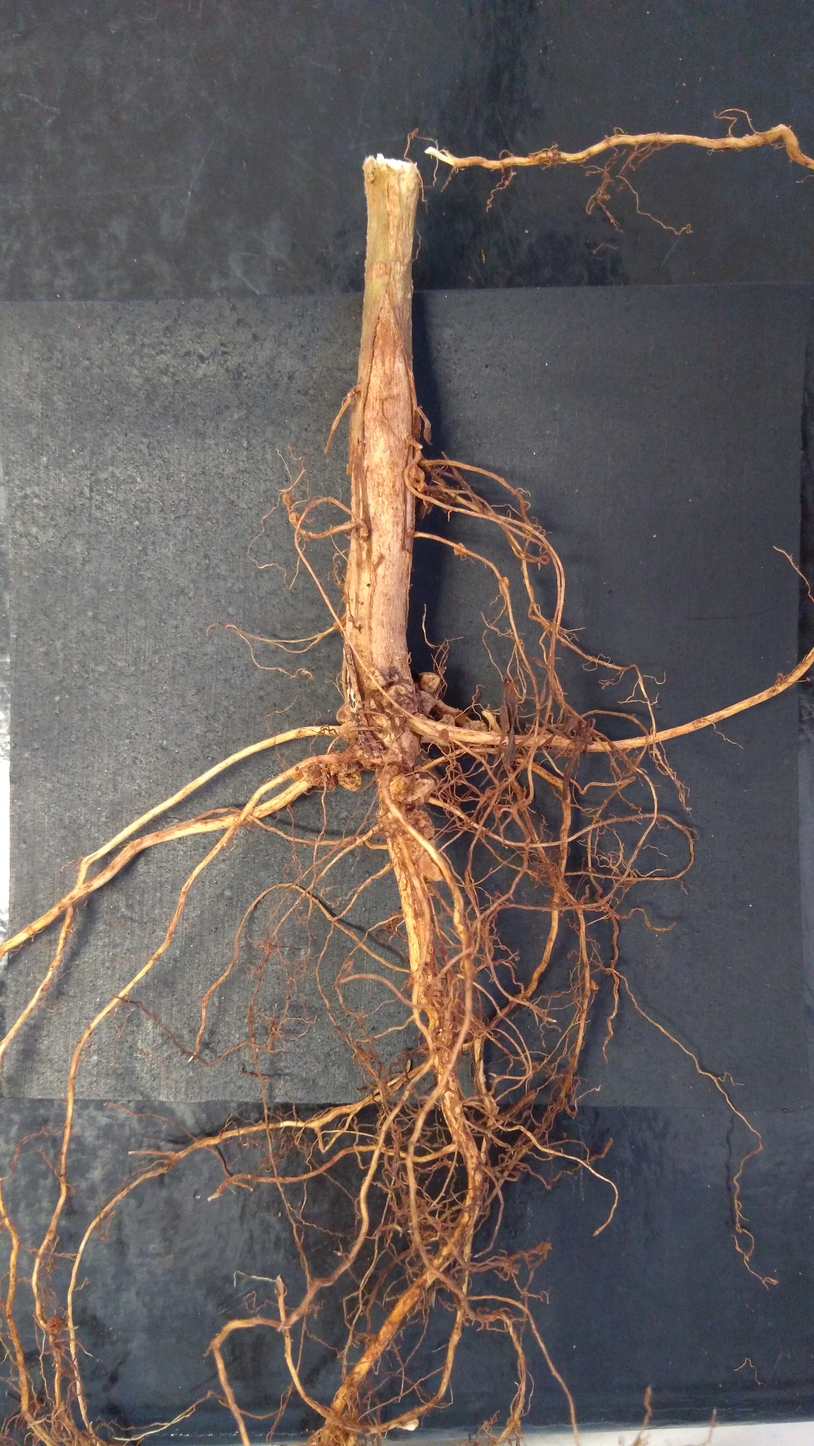nodule: (388, 771, 439, 807), (415, 848, 453, 885), (380, 684, 416, 718), (404, 808, 440, 841), (336, 765, 363, 793), (300, 762, 326, 790), (359, 666, 388, 691), (417, 669, 443, 696), (460, 718, 489, 740), (45, 1314, 68, 1335), (411, 464, 427, 492), (336, 701, 354, 724), (338, 720, 356, 743), (436, 712, 459, 728), (326, 762, 340, 777), (589, 977, 600, 991), (289, 510, 299, 525), (292, 768, 303, 780), (282, 493, 292, 505)
